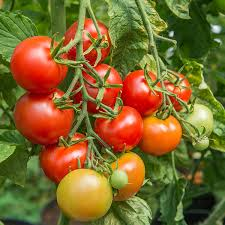stems: (55, 73, 78, 107), (61, 113, 83, 146), (51, 34, 76, 59), (83, 59, 105, 86), (167, 92, 190, 111), (82, 136, 92, 168), (150, 58, 160, 85), (156, 93, 168, 115)
tomato: (13, 88, 74, 146), (9, 35, 69, 92), (56, 168, 114, 223), (39, 132, 94, 185), (94, 150, 145, 202), (70, 64, 123, 113), (93, 106, 144, 153), (64, 17, 111, 65), (139, 110, 183, 157), (123, 69, 163, 117), (175, 104, 213, 143), (164, 71, 191, 111), (110, 169, 128, 188), (192, 134, 210, 150)
